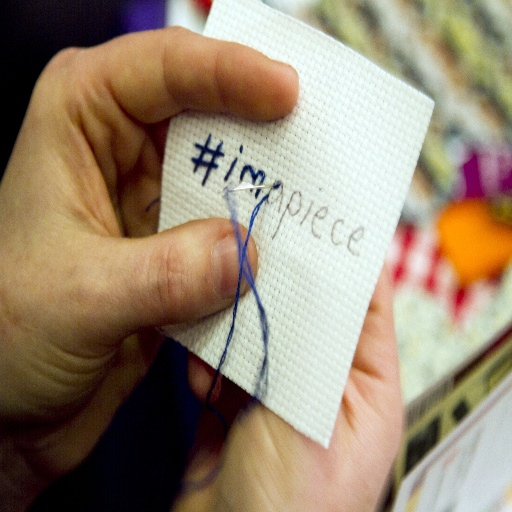hand: (0, 23, 297, 492), (186, 257, 406, 511)
